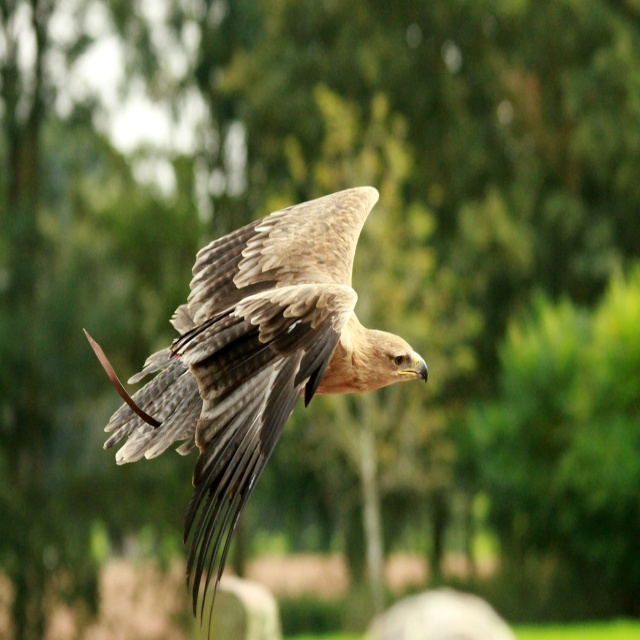Eagle: (81, 178, 429, 639)
